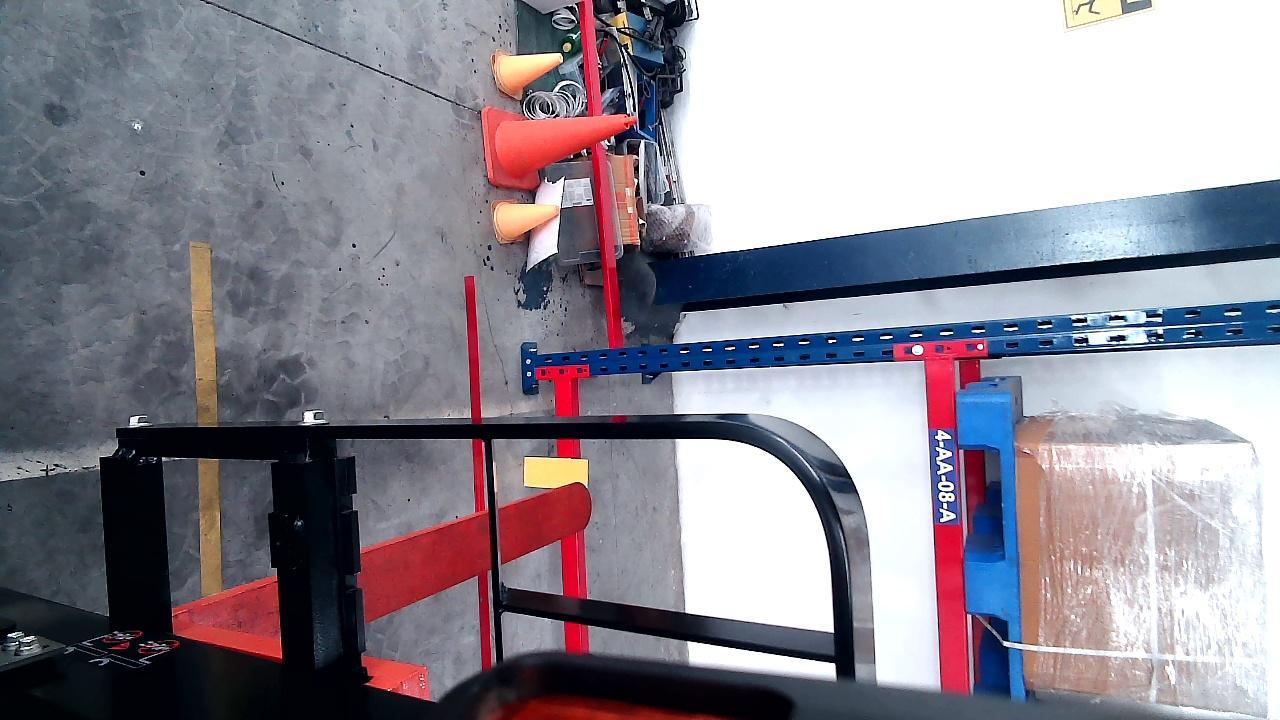red_line: (459, 272, 495, 666)
yellow_line: (191, 233, 219, 606)
